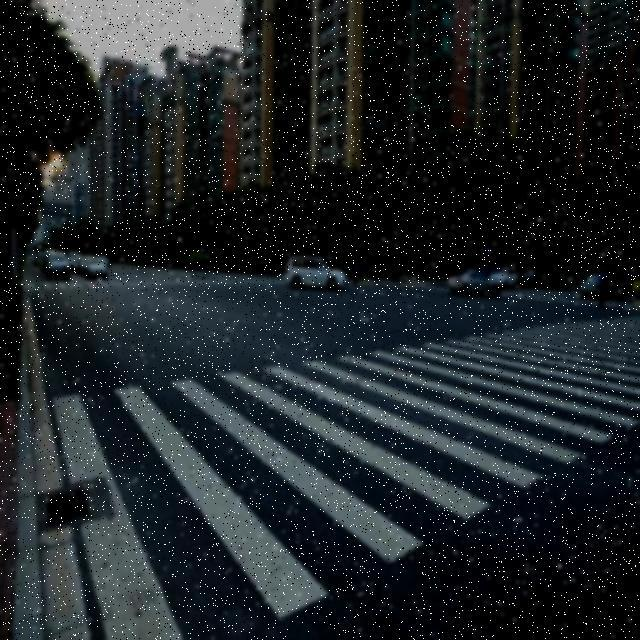crosswalk: (62, 313, 639, 619), (446, 273, 632, 313), (23, 273, 285, 293)
